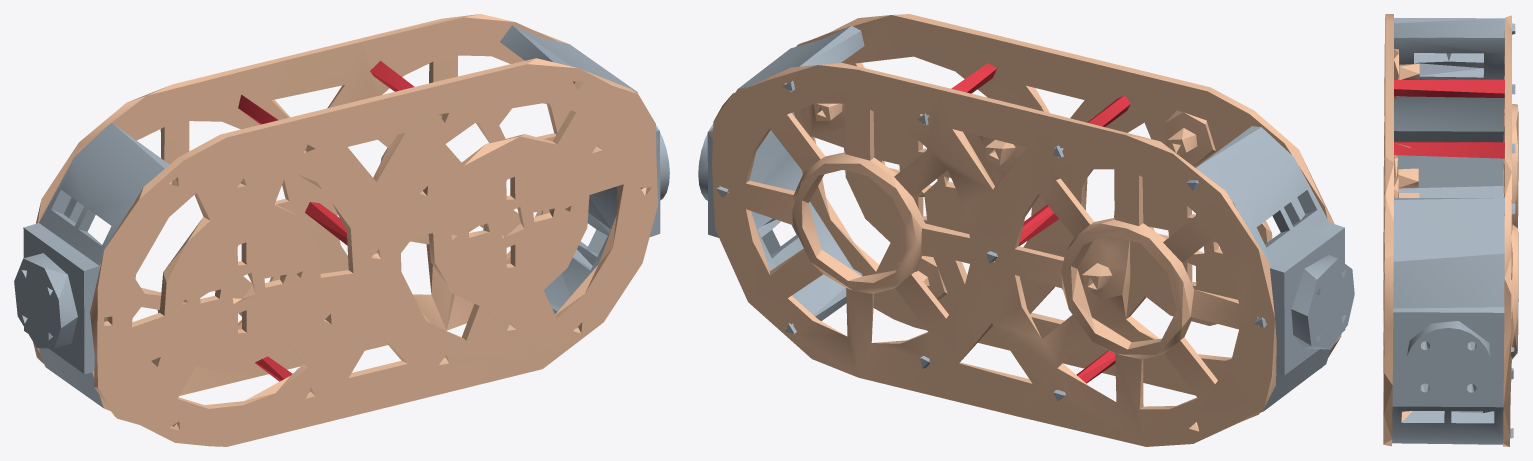
3 renders of one model, left to right at view 1: azimuth 30°, elevation 25°; view 2: azimuth 150°, elevation 25°; view 3: azimuth 270°, elevation 25°, orthographic. The views are drawn at different scales.
Visible parts, largest first — view 1: tmp_export_fl_link0; view 2: tmp_export_fl_link0; view 3: tmp_export_fl_link0.
Part boxes in pixels (box(x1,y1,x2,y2)): tmp_export_fl_link0: box(14, 14, 669, 446); tmp_export_fl_link0: box(698, 14, 1354, 446); tmp_export_fl_link0: box(1383, 14, 1518, 446).
Bounding box in the file's own units: 0.1858 × 0.0391 × 0.0903.
